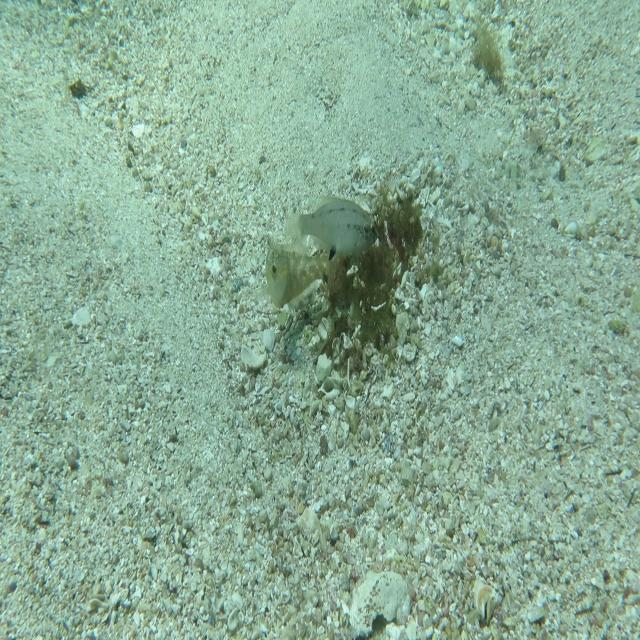DAN_CIRC: (254, 230, 338, 318)
female: (284, 192, 380, 262)
nest: (306, 162, 431, 368)
